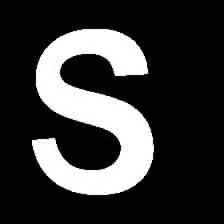LTR_S: (21, 21, 163, 198)
